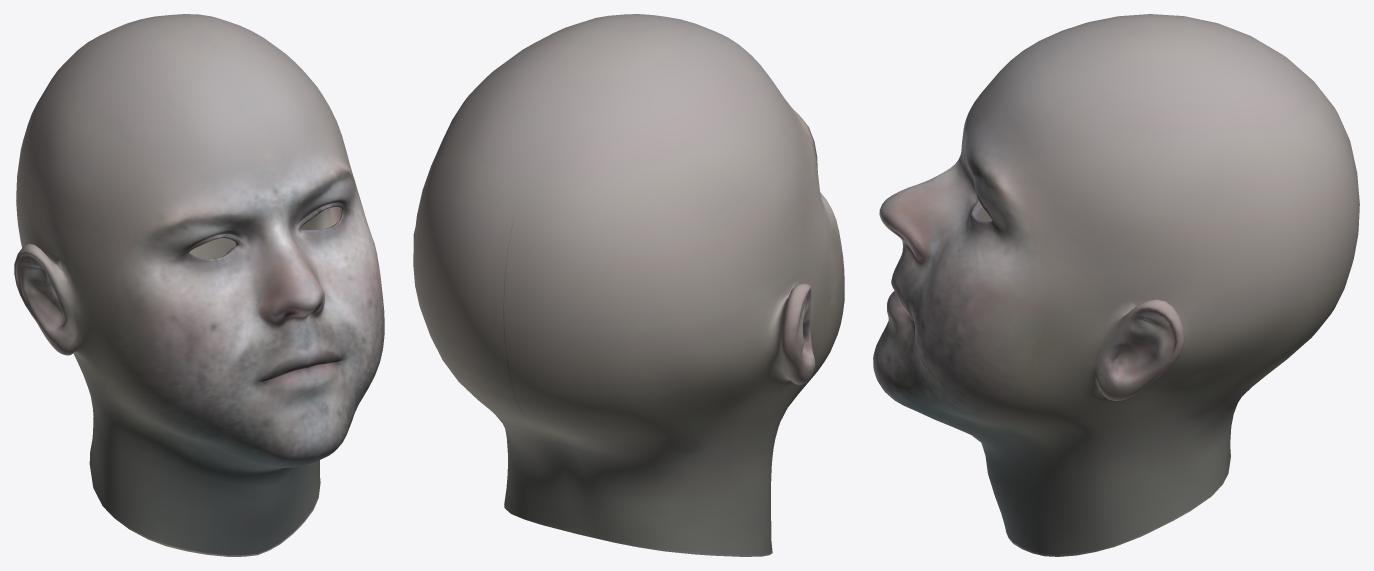
3 renders of one model, left to right at view 1: azimuth 30°, elevation 25°; view 2: azimuth 150°, elevation 25°; view 3: azimuth 270°, elevation 25°, orthographic. The views are drawn at different scales.
Parts seen in each view (by area): view 1: FaceGen; view 2: FaceGen; view 3: FaceGen.
Boxes of the visible parts, bbox=[...] form: FaceGen: bbox=[14, 14, 384, 556]; FaceGen: bbox=[413, 14, 844, 556]; FaceGen: bbox=[873, 14, 1359, 556].
Size of the model in its own units: 203 by 277 by 242.
Materials: 1 (1 with a texture image).
